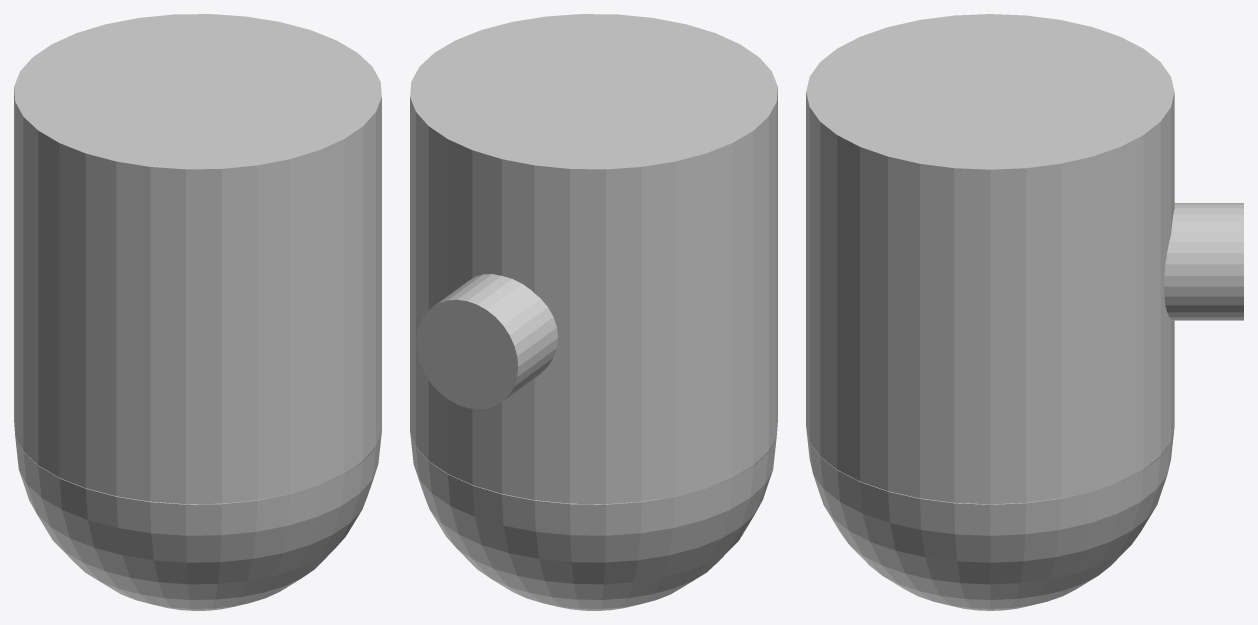
File: fractionaldistilation.obj
The picture shows the model from 3 angles, left to right: view 1: azimuth 30°, elevation 25°; view 2: azimuth 150°, elevation 25°; view 3: azimuth 270°, elevation 25°; orthographic projection.
Visible parts, largest first — view 1: Sphere; view 2: Sphere; view 3: Sphere.
Part boxes in pixels (box(x1,y1,x2,y2)): Sphere: box(14, 14, 381, 610); Sphere: box(410, 14, 777, 610); Sphere: box(806, 14, 1243, 610).
Bounding box in the file's own units: 2 × 3.01 × 2.38.
